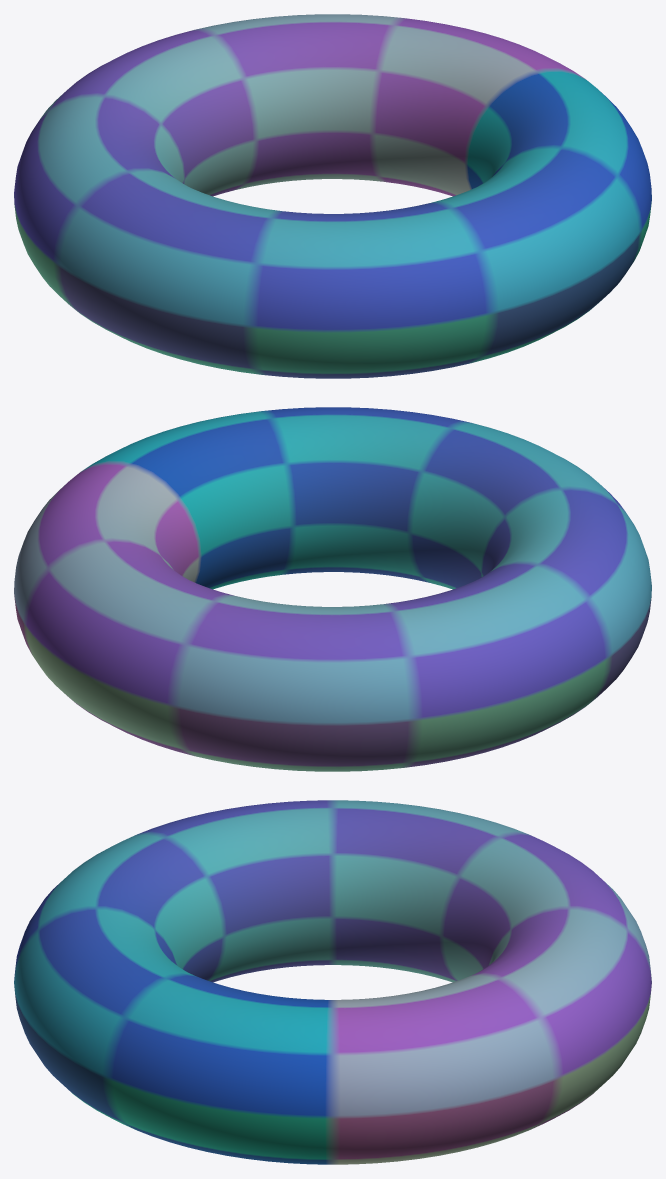
The model's file is sample_mesh.glb.
3 renders of one model, top to bottom at view 1: azimuth 30°, elevation 25°; view 2: azimuth 150°, elevation 25°; view 3: azimuth 270°, elevation 25°, orthographic.
Parts seen in each view (by area): view 1: SyntheticTorus; view 2: SyntheticTorus; view 3: SyntheticTorus.
Boxes of the visible parts, x1,y1,x2,y2 form: SyntheticTorus: (14,14,651,378); SyntheticTorus: (14,407,651,771); SyntheticTorus: (14,800,651,1164).
Bounding box in the file's own units: 2.7 × 0.6962 × 2.7.
Materials: 1 (1 with a texture image).
